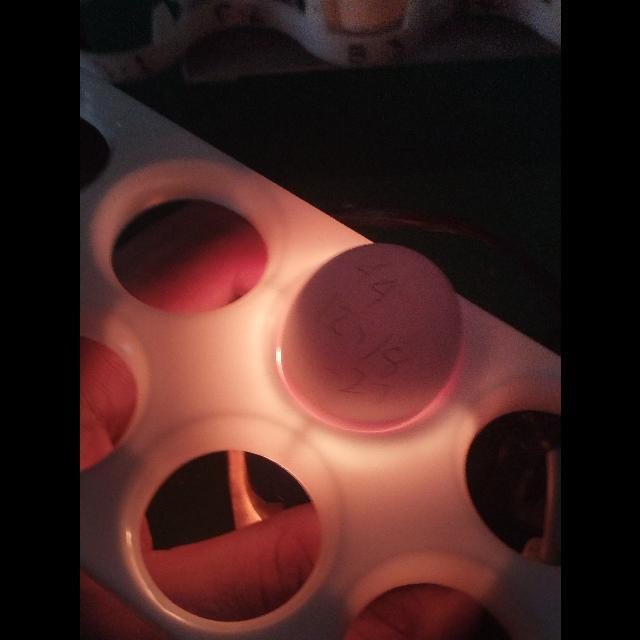Fertile: (276, 241, 464, 434)
